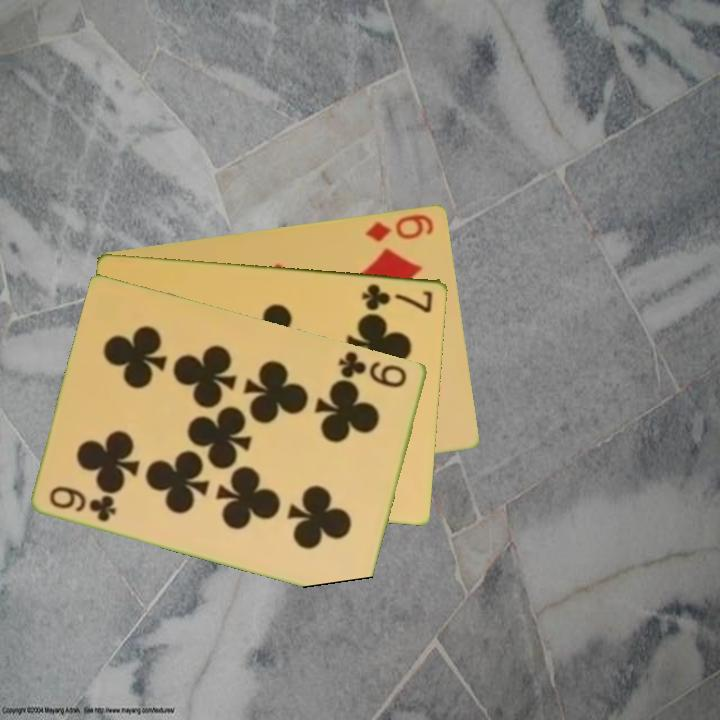6d: (362, 210, 437, 244)
7c: (358, 280, 436, 316)
9c: (335, 347, 410, 391), (46, 482, 120, 524)
